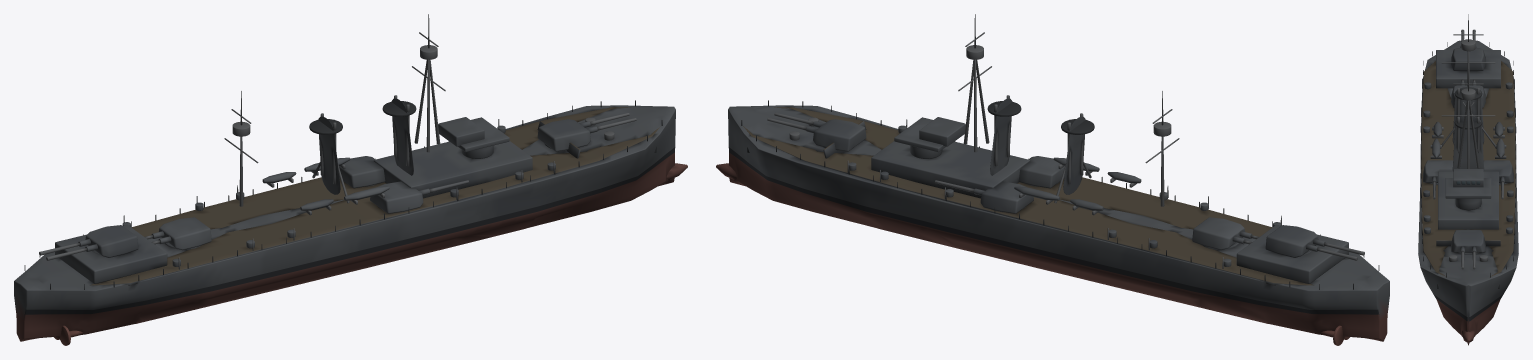
The model's file is dreadnought.glb.
The picture shows the model from 3 angles, left to right: view 1: azimuth 30°, elevation 25°; view 2: azimuth 150°, elevation 25°; view 3: azimuth 270°, elevation 25°; orthographic projection. The views are drawn at different scales.
Visible parts, largest first — view 1: hull, deck, bridge, turret_b, turret_p, turret_a, funnel_a, funnel_f, boats, mast_f, casemate, mast_a; view 2: hull, deck, bridge, turret_b, turret_p, turret_a, funnel_a, funnel_f, boats, mast_f, casemate, mast_a; view 3: deck, hull, bridge, turret_b, funnel_f, turret_p, mast_f, turret_a, boats, casemate, funnel_a, mast_a (+1 smaller).
Boxes of the visible parts, <box> form: hull: <box>14,105,687,345</box>; deck: <box>24,100,662,289</box>; bridge: <box>374,117,532,198</box>; turret_b: <box>39,217,211,283</box>; turret_p: <box>339,156,468,213</box>; turret_a: <box>537,112,636,151</box>; funnel_a: <box>309,113,342,194</box>; funnel_f: <box>382,95,416,175</box>; boats: <box>262,157,389,215</box>; mast_f: <box>412,14,445,152</box>; casemate: <box>122,119,555,269</box>; mast_a: <box>224,91,258,206</box>; hull: <box>716,105,1389,345</box>; deck: <box>741,100,1379,289</box>; bridge: <box>871,117,1029,198</box>; turret_b: <box>1192,217,1364,283</box>; turret_p: <box>935,156,1064,213</box>; turret_a: <box>767,112,866,151</box>; funnel_a: <box>1061,113,1094,194</box>; funnel_f: <box>987,95,1021,175</box>; boats: <box>1014,157,1141,215</box>; mast_f: <box>958,14,991,152</box>; casemate: <box>847,119,1281,268</box>; mast_a: <box>1145,91,1179,206</box>; deck: <box>1420,42,1516,277</box>; hull: <box>1418,40,1518,345</box>; bridge: <box>1438,169,1498,229</box>; turret_b: <box>1436,29,1500,108</box>; funnel_f: <box>1452,116,1484,171</box>; turret_p: <box>1422,160,1514,199</box>; mast_f: <box>1441,63,1495,168</box>; turret_a: <box>1451,230,1485,269</box>; boats: <box>1430,102,1506,158</box>; casemate: <box>1420,78,1516,234</box>; funnel_a: <box>1452,86,1484,144</box>; mast_a: <box>1441,14,1495,86</box>.
Bounding box in the file's own units: 164 × 53.78 × 26.3.
